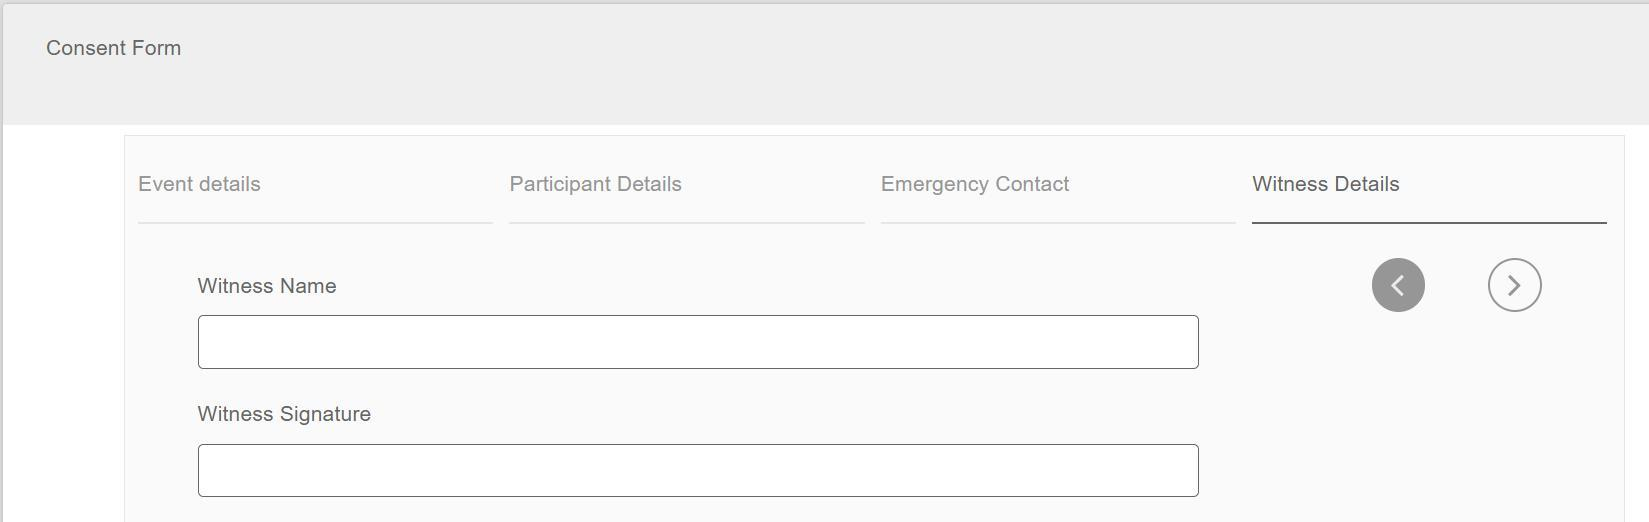icon: (1484, 252, 1546, 317), (1366, 256, 1431, 314)
input: (201, 445, 1199, 501), (196, 317, 1200, 369)
label: (191, 395, 387, 435), (192, 266, 347, 304), (39, 29, 189, 67)
